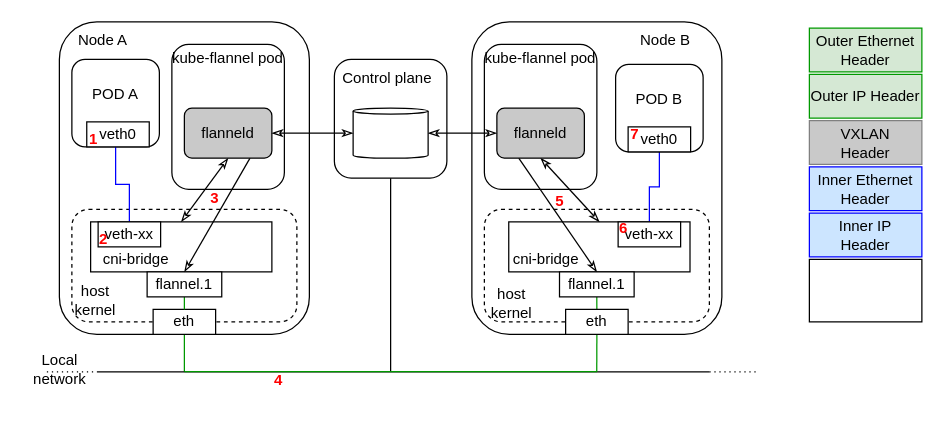
The diagram is 944 pixels wide and 421 high, and some of its shapes have lost their labels. The centre of each missing label's shape, as x and y in pixels:
... Packet content ...: [865,290]
etcd: [390,132]
